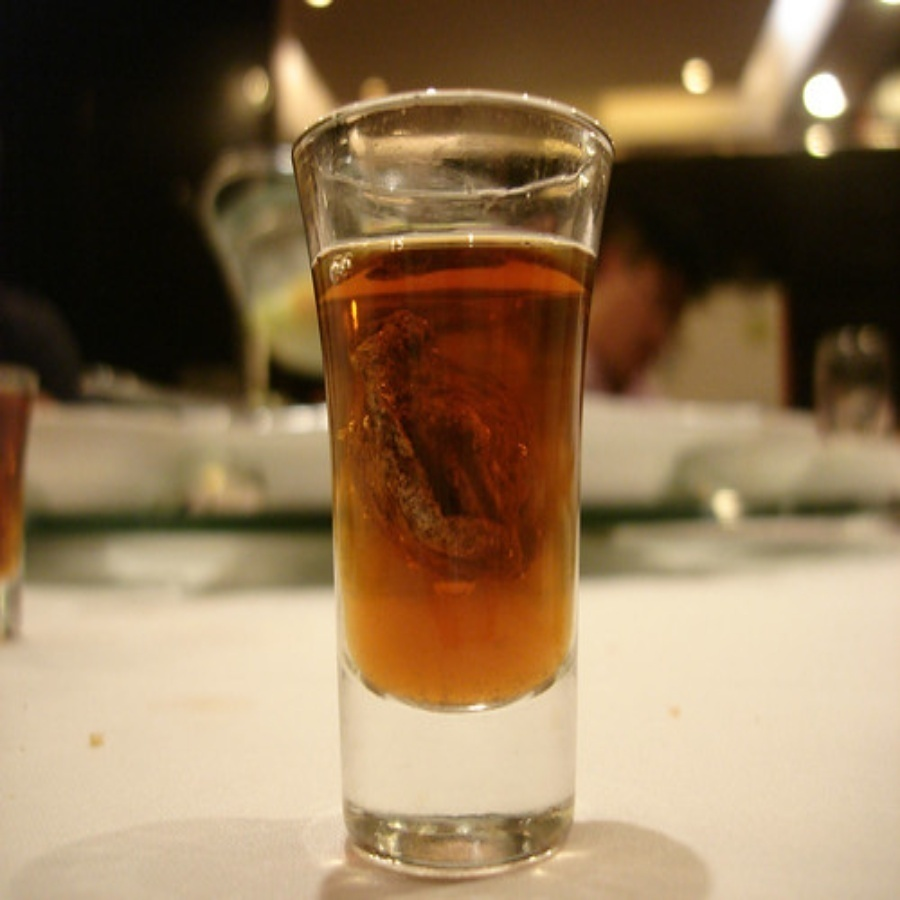whiskey: (300, 92, 600, 861)
